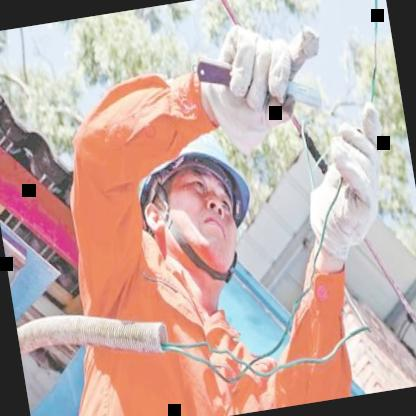helmet: (112, 105, 270, 308)
